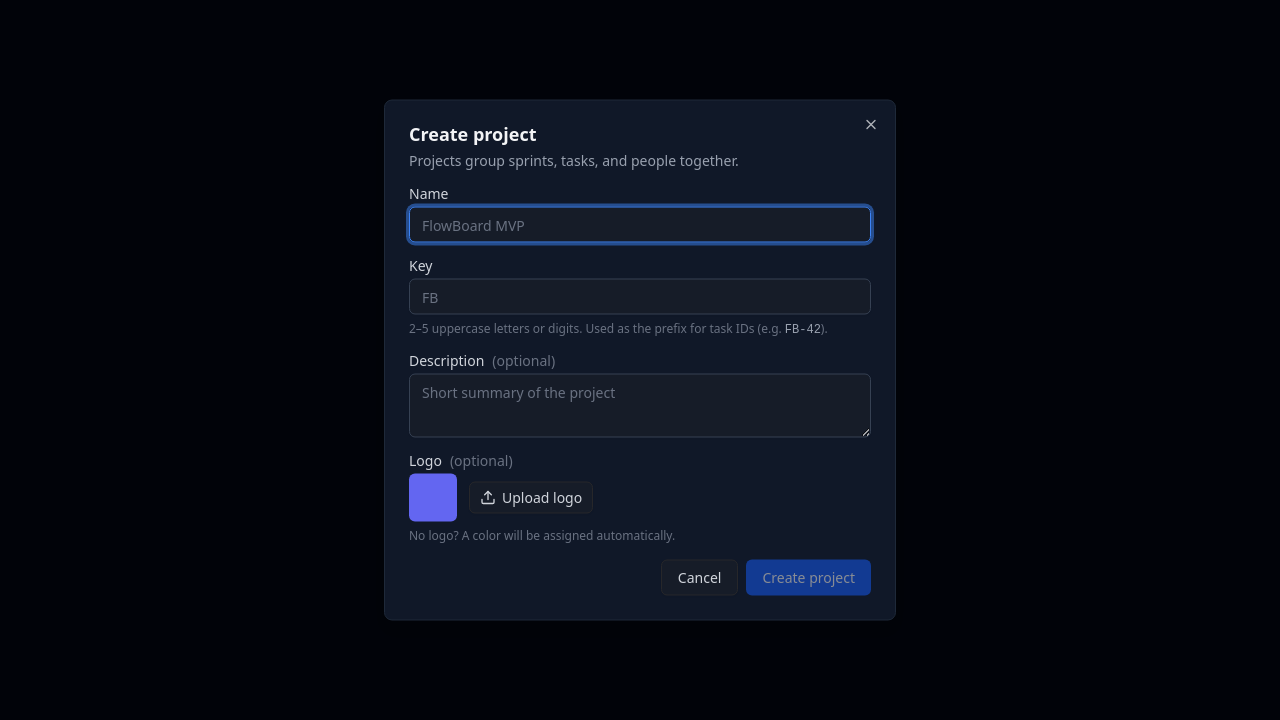
Test: CreateProjectModal › submit is enabled with valid name and 2-char key
Step 1. Type "Alpha" into the field labelled "Name" → (640, 224), box [409,206,871,242]
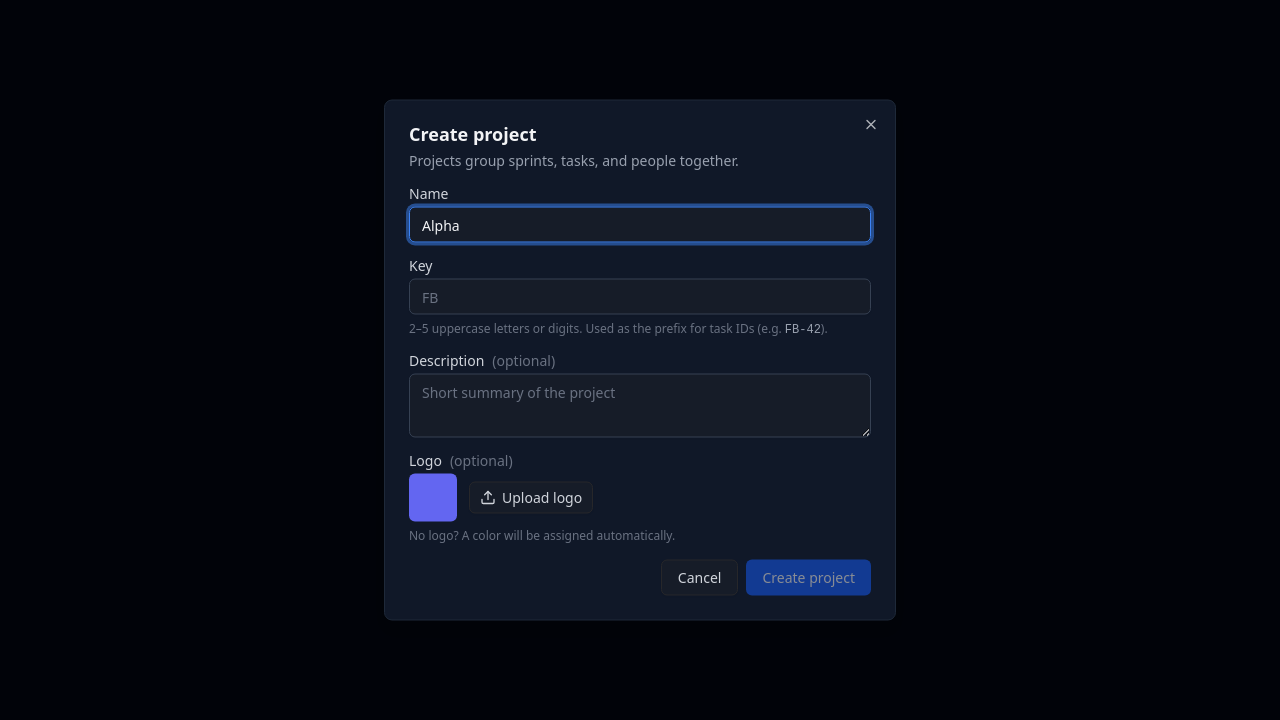
Step 2. Type "AL" into the field labelled "Key" → (640, 296), box [409,278,871,314]
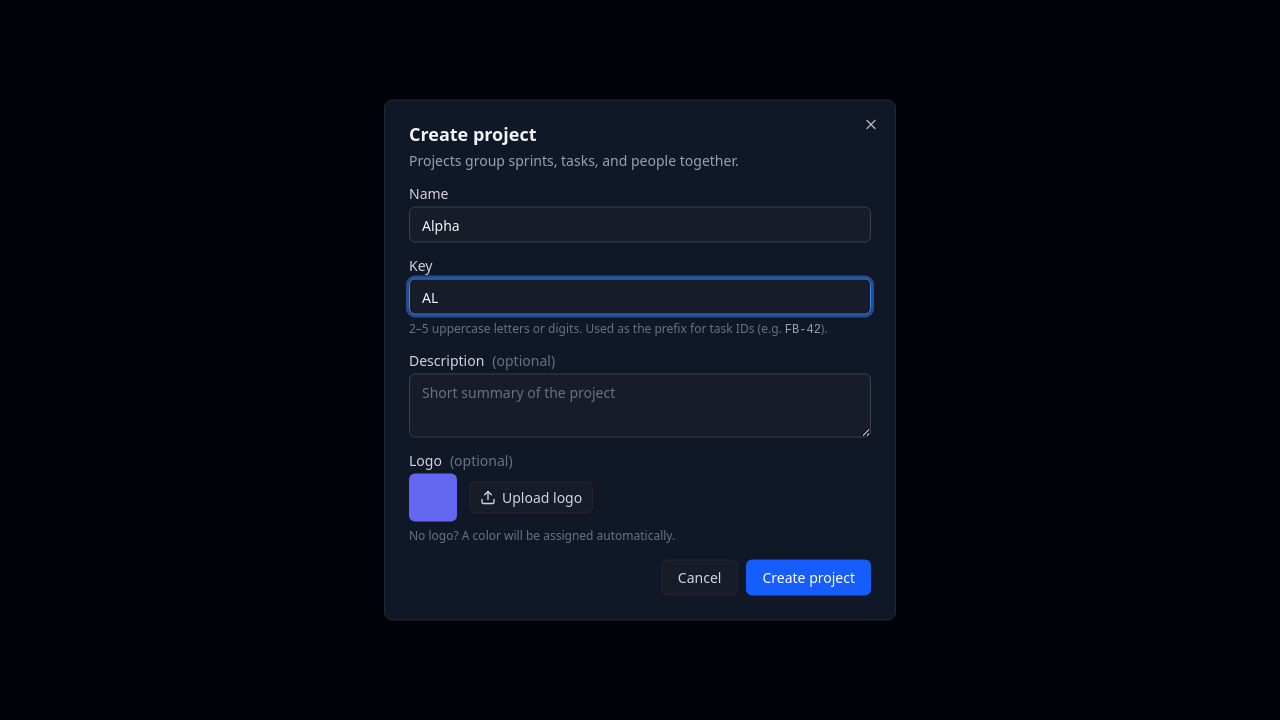
Now the button "Create project" is enabled, box [746,560,871,596]
